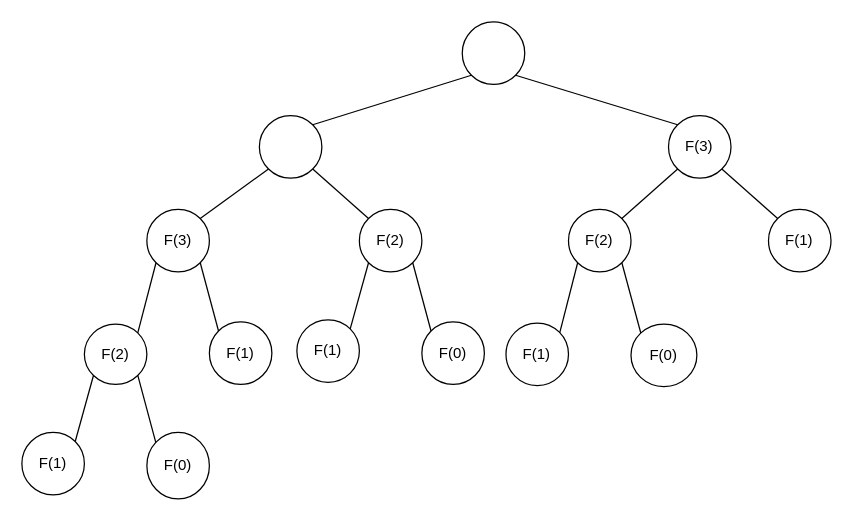
The diagram is 854 pixels wide and 521 high, and some of its shapes have lost their labels. The shapes that lost their labels are listed below. From the top down, each one's centre as x and y in pixels, then its label:
point (493, 52): F(5)
point (290, 146): F(4)
